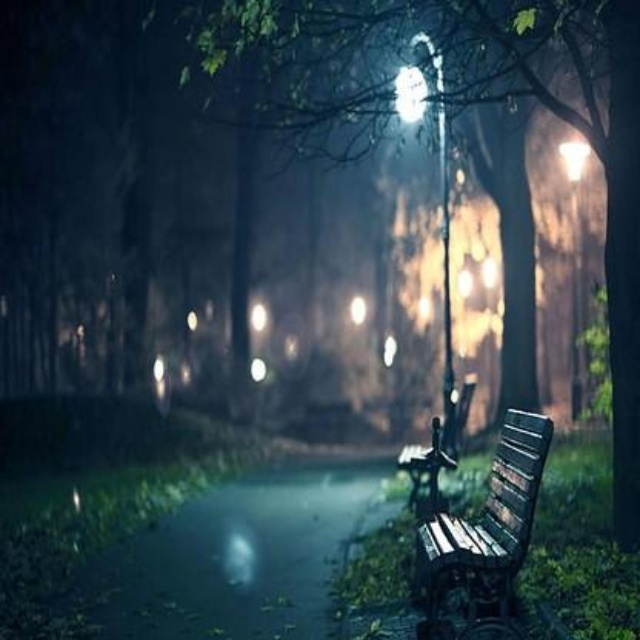obstacle: (414, 402, 562, 608)
